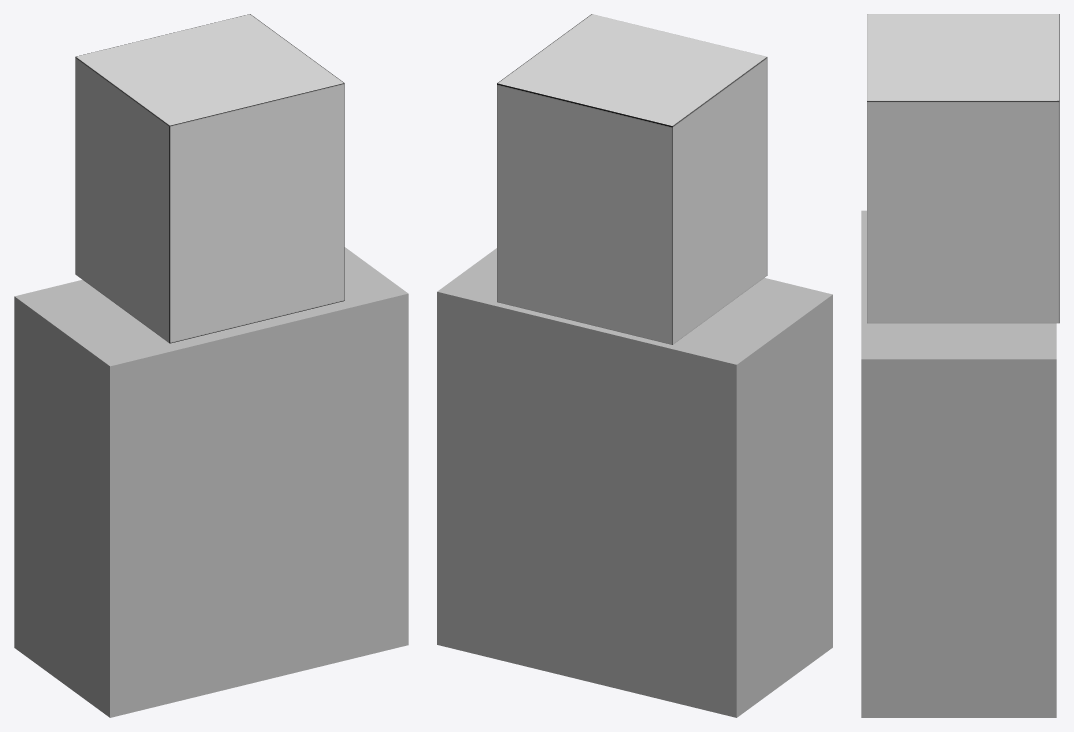
File: body.fbx
The picture shows the model from 3 angles, left to right: view 1: azimuth 30°, elevation 25°; view 2: azimuth 150°, elevation 25°; view 3: azimuth 270°, elevation 25°; orthographic projection. The views are drawn at different scales.
Parts seen in each view (by area): view 1: Body, Head; view 2: Body, Head; view 3: Body, Head.
Part boxes in pixels (x1,y1,x2,y2): Body: (14, 247, 408, 717); Head: (75, 14, 344, 343); Body: (437, 248, 832, 717); Head: (497, 14, 767, 344); Body: (861, 210, 1056, 717); Head: (867, 14, 1059, 323).
Size of the model in its own units: 67.5 by 124 by 38.07.
